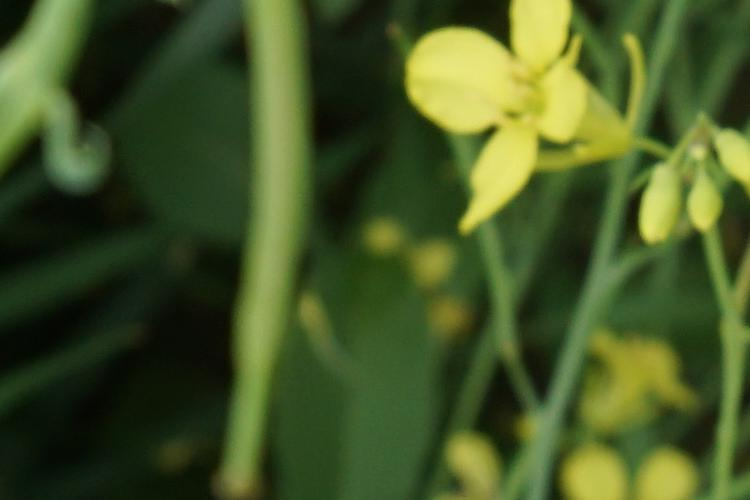bud: (641, 151, 687, 261), (688, 156, 723, 245), (718, 118, 750, 201)
yellow: (411, 12, 657, 206)
